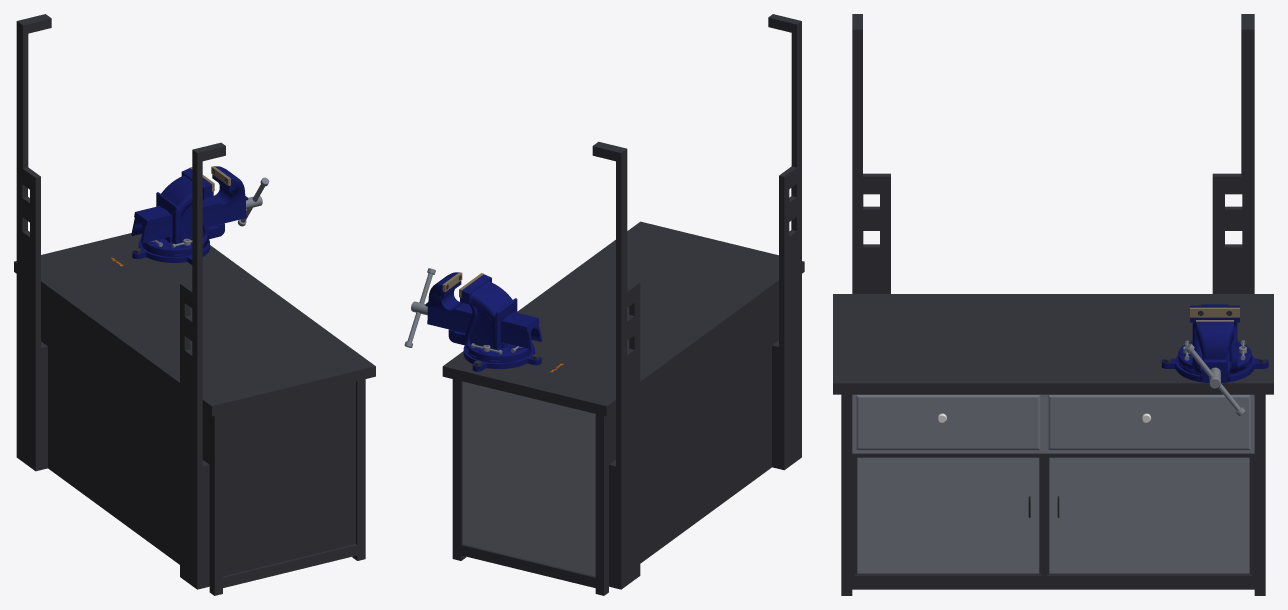
File: Bench Vise & Table.FBX
3 views of the same model, side by side, from view 1: azimuth 30°, elevation 25°; view 2: azimuth 150°, elevation 25°; view 3: azimuth 270°, elevation 25° (orthographic). The views are drawn at different scales.
Visible parts, largest first — view 1: Box036, VIFS011, VIFS012, VIFS021; view 2: Box036, VIFS011, VIFS012, VIFS021; view 3: Box036, VIFS012, VIFS011, VIFS021.
Part boxes in pixels (x1,y1,x2,y2): Box036: [14, 14, 375, 595]; VIFS011: [141, 168, 224, 255]; VIFS012: [131, 166, 248, 243]; VIFS021: [132, 238, 209, 264]; Box036: [442, 14, 804, 595]; VIFS011: [448, 274, 532, 361]; VIFS012: [425, 272, 542, 349]; VIFS021: [463, 344, 541, 371]; Box036: [833, 14, 1273, 595]; VIFS012: [1196, 304, 1233, 382]; VIFS011: [1178, 305, 1251, 381]; VIFS021: [1161, 355, 1268, 382].
Size of the model in its own units: 42.01 by 78.61 by 63.69.
